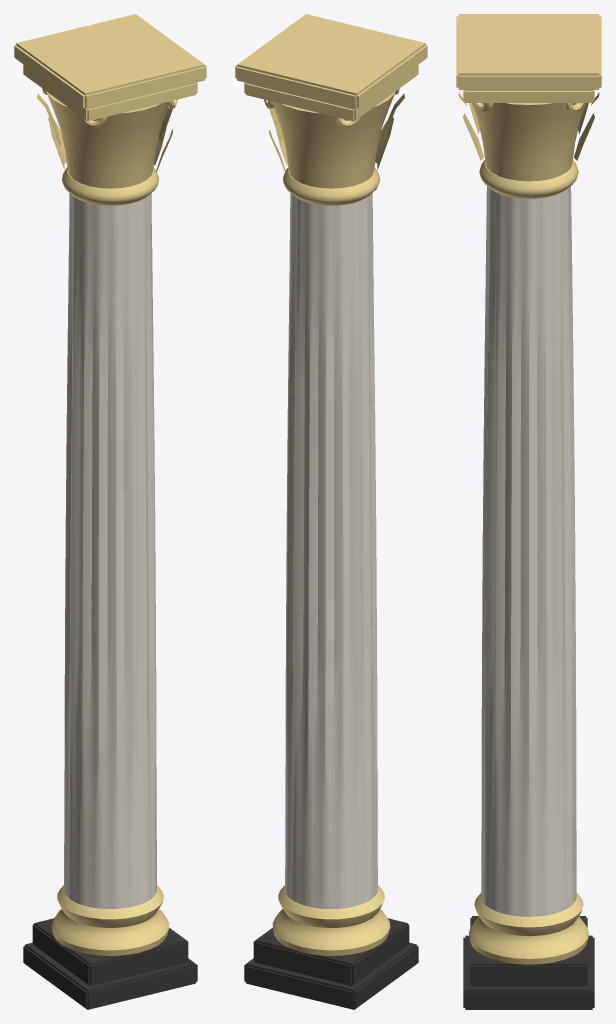
Rendered from atelier_corinthian_column.glb.
The picture shows the model from 3 angles, left to right: view 1: azimuth 30°, elevation 25°; view 2: azimuth 150°, elevation 25°; view 3: azimuth 270°, elevation 25°; orthographic projection. The views are drawn at different scales.
Visible parts, largest first — view 1: Column_FlutedShaft_Limestone, Column_CapitalAndBase_Gold, Column_Plinth_Nero; view 2: Column_FlutedShaft_Limestone, Column_CapitalAndBase_Gold, Column_Plinth_Nero; view 3: Column_FlutedShaft_Limestone, Column_CapitalAndBase_Gold, Column_Plinth_Nero.
Part boxes in pixels (<box>): Column_FlutedShaft_Limestone: <box>64,193,156,908</box>; Column_CapitalAndBase_Gold: <box>14,14,206,955</box>; Column_Plinth_Nero: <box>23,918,197,1009</box>; Column_FlutedShaft_Limestone: <box>285,193,377,908</box>; Column_CapitalAndBase_Gold: <box>235,14,427,955</box>; Column_Plinth_Nero: <box>244,918,418,1009</box>; Column_FlutedShaft_Limestone: <box>481,186,576,916</box>; Column_CapitalAndBase_Gold: <box>456,14,601,964</box>; Column_Plinth_Nero: <box>463,916,594,1009</box>.
Bounding box in the file's own units: 1.04 × 7.4 × 1.04.
